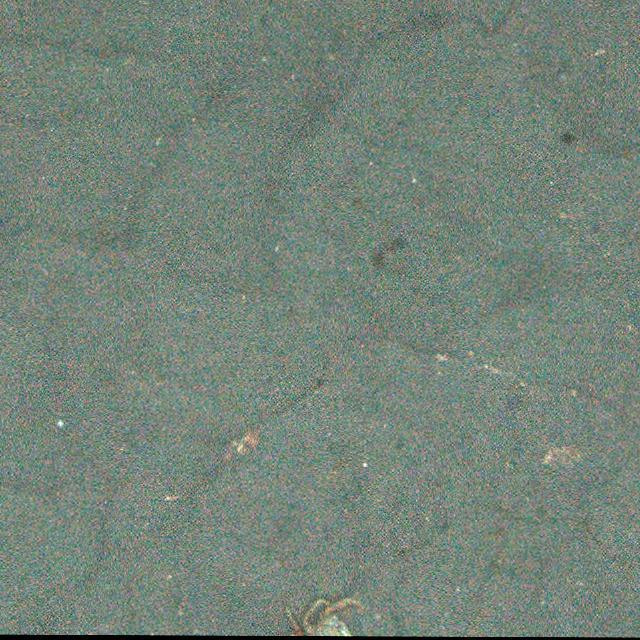crab: (287, 592, 369, 636)
